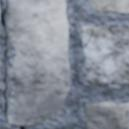brick: (7, 0, 69, 125), (85, 28, 128, 84), (86, 103, 128, 128), (93, 0, 128, 12), (114, 29, 128, 42), (83, 27, 91, 43)
crack: (0, 2, 15, 126), (109, 27, 128, 46), (84, 28, 94, 47)
